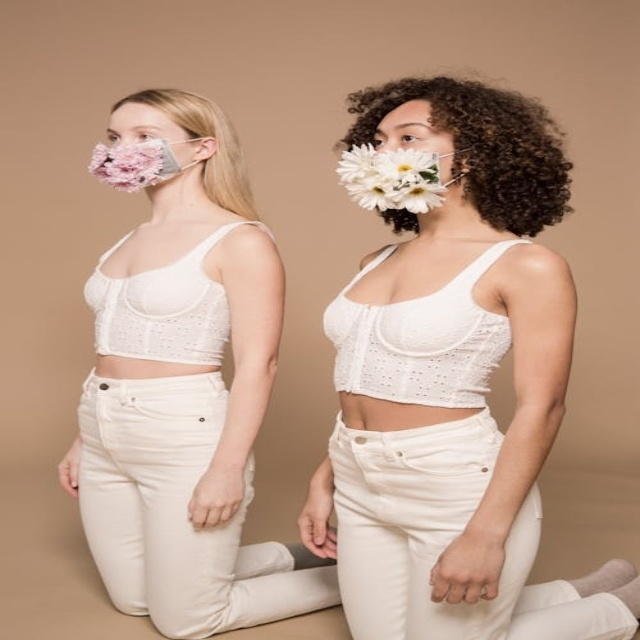Mascara: (332, 139, 479, 215), (84, 134, 215, 188)
Sin_gafas: (374, 122, 436, 148), (104, 121, 173, 140)
Sin_guantes: (429, 533, 513, 608), (187, 468, 243, 528), (297, 481, 340, 559), (50, 437, 83, 499)
